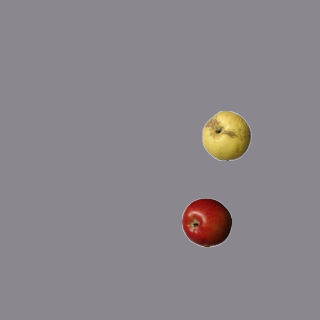Apple Braeburn: (181, 197, 231, 247)
Apple Golden 1: (201, 110, 251, 160)
